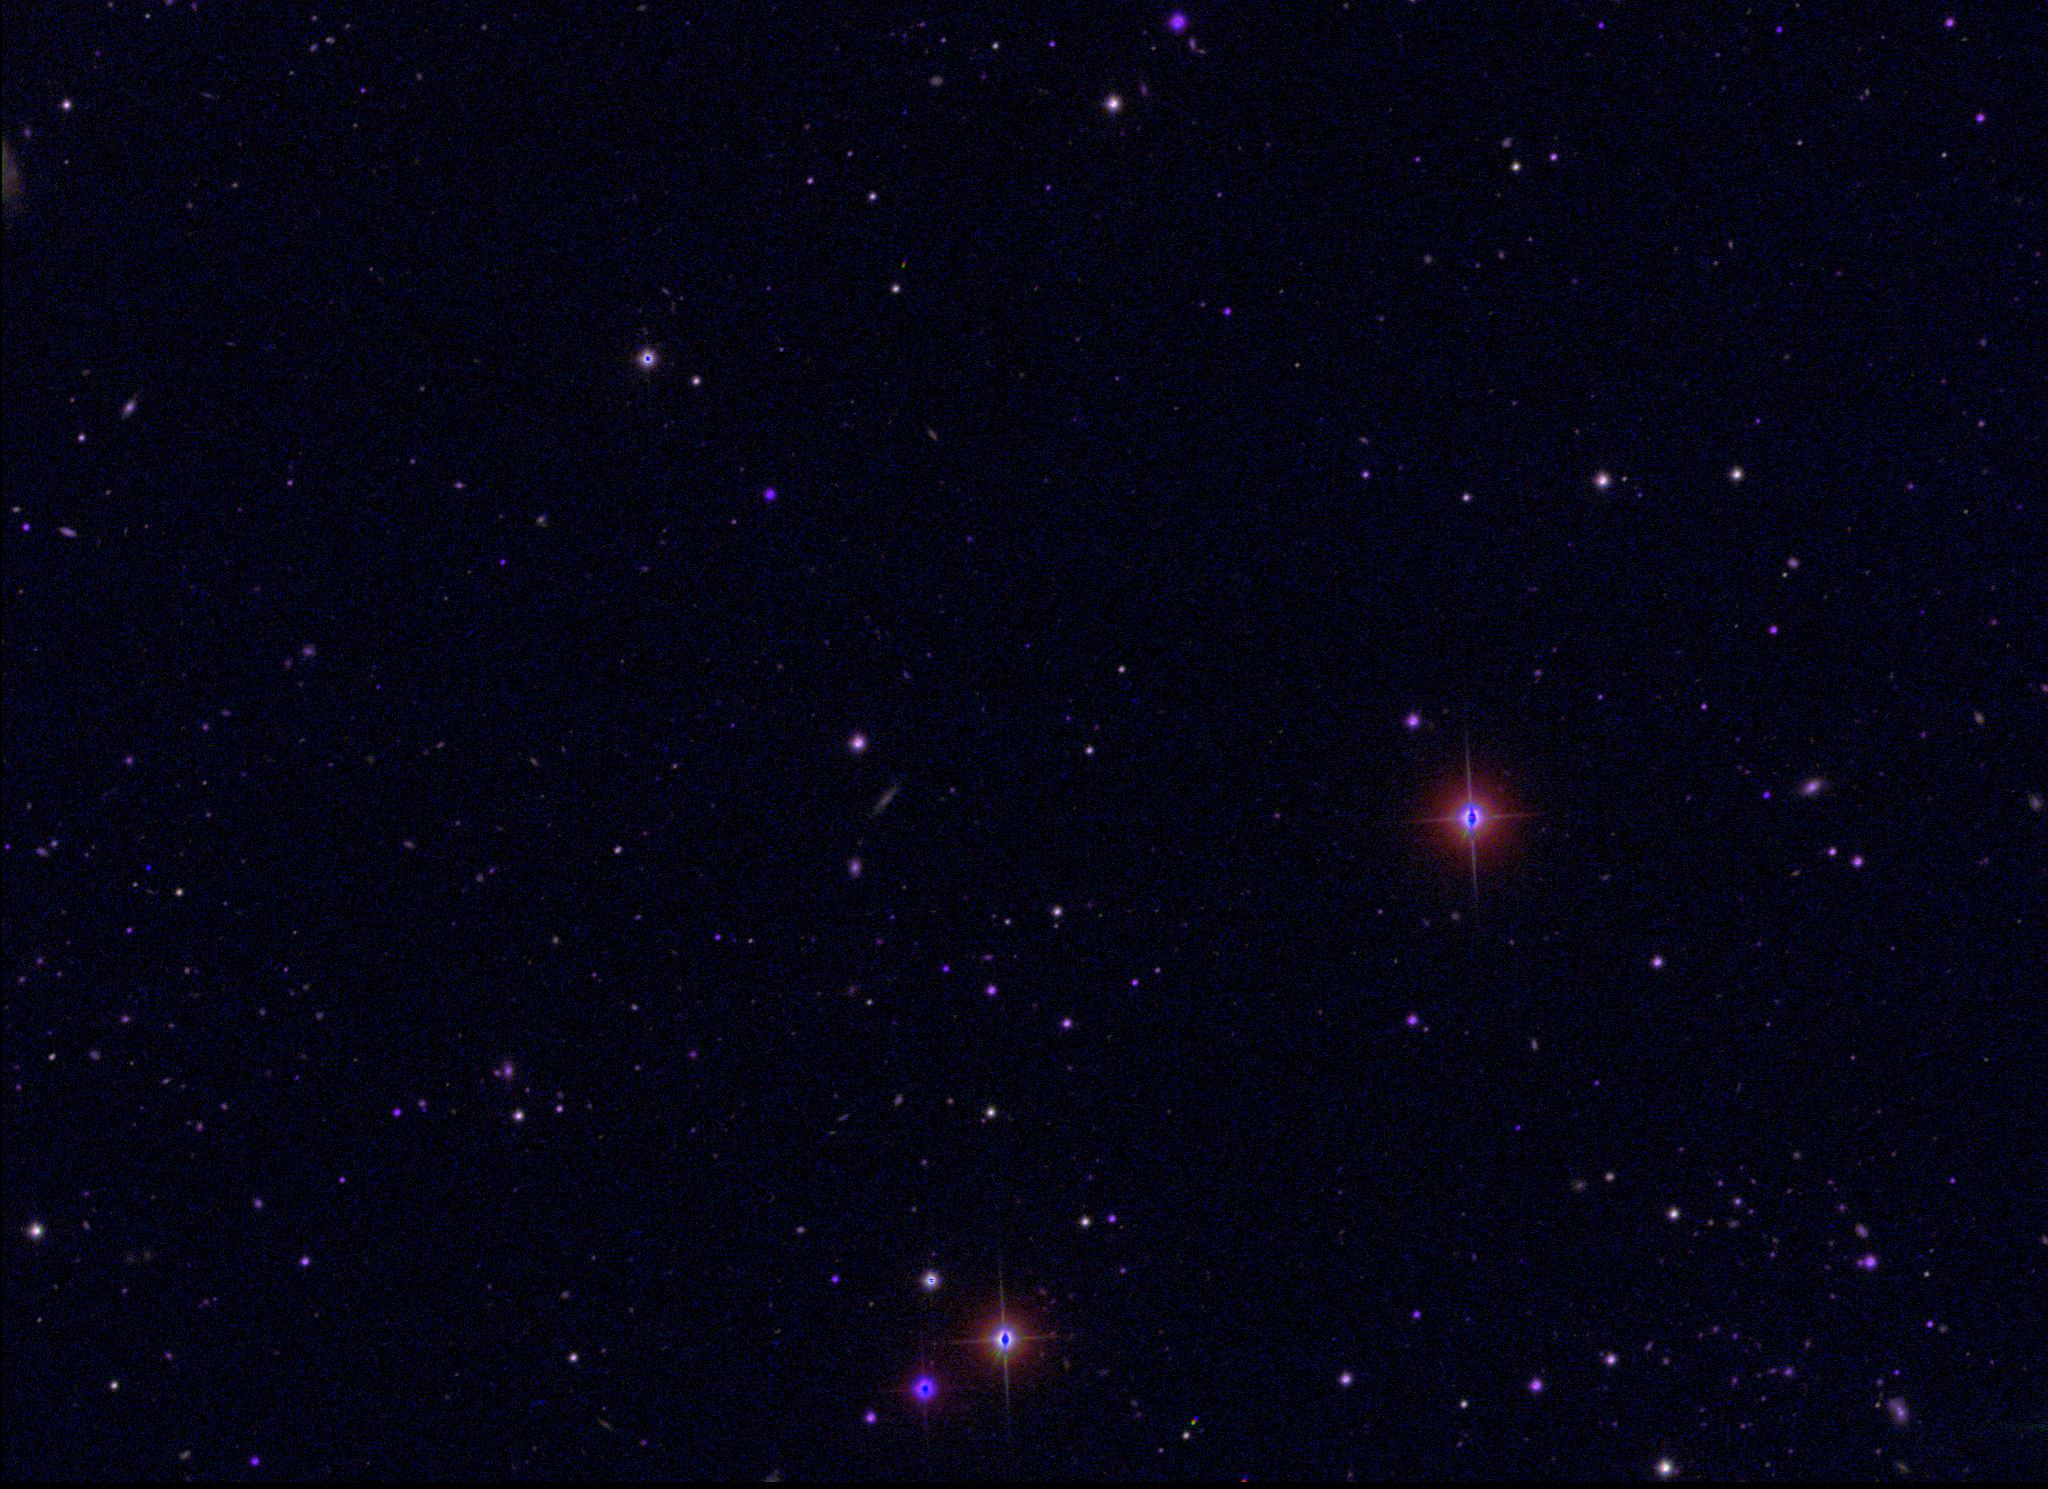L: (142, 861, 156, 875)
